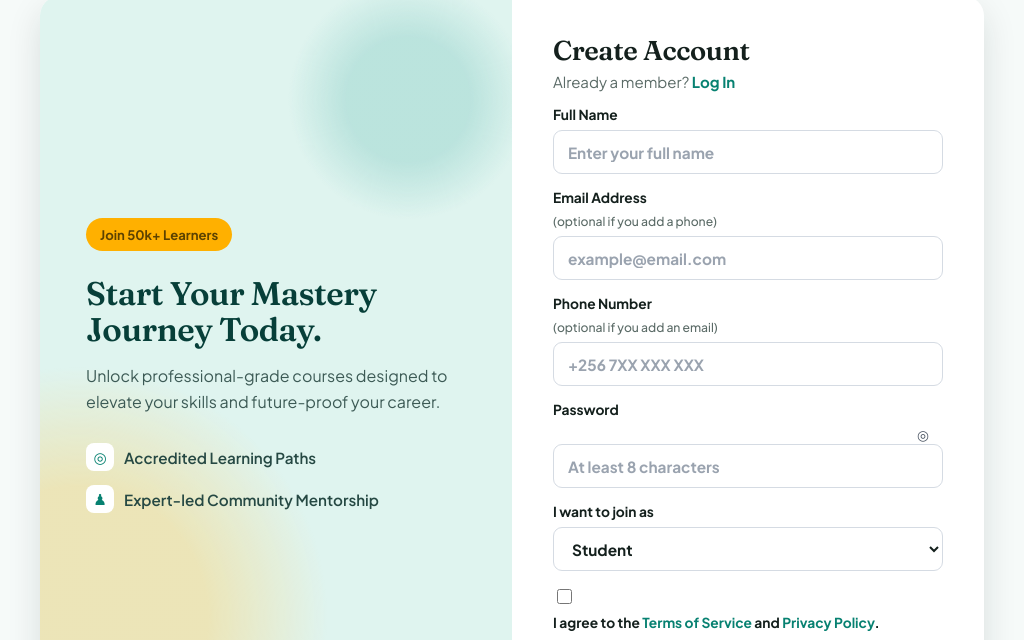
Test: Given a visitor on the register page › when the email is already taken, then the server error appears under the email field
The image size is (1024, 640).
Step 1. Type "Phil Test" into the field with placeholder "Enter your full name" → {"x": 748, "y": 152}, box [553,130,943,174]
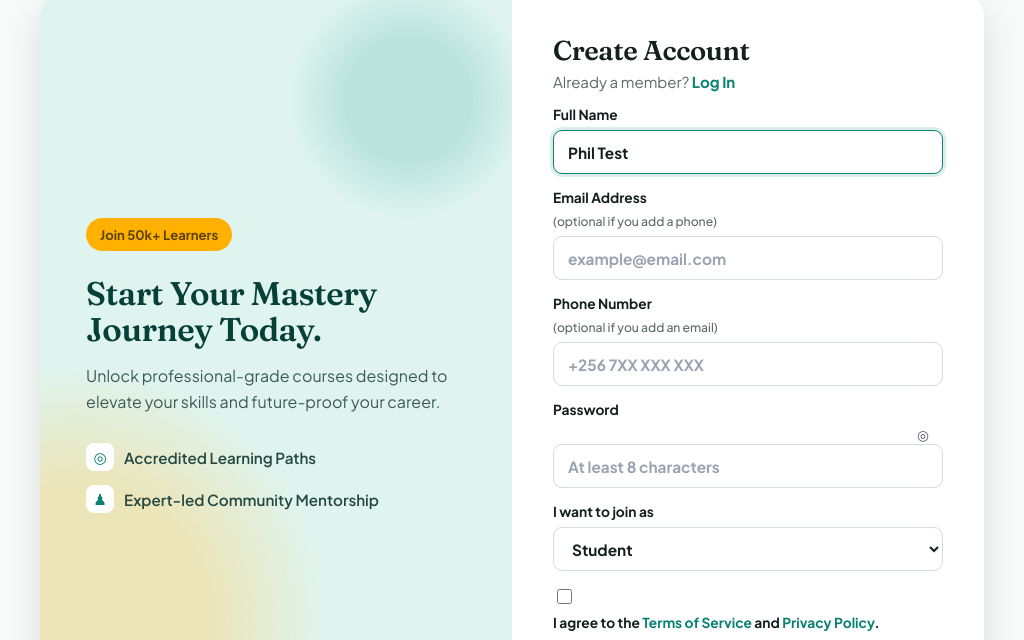
Step 2. Type "taken@t.com" into the field with placeholder "example@email.com" → {"x": 748, "y": 258}, box [553,236,943,280]
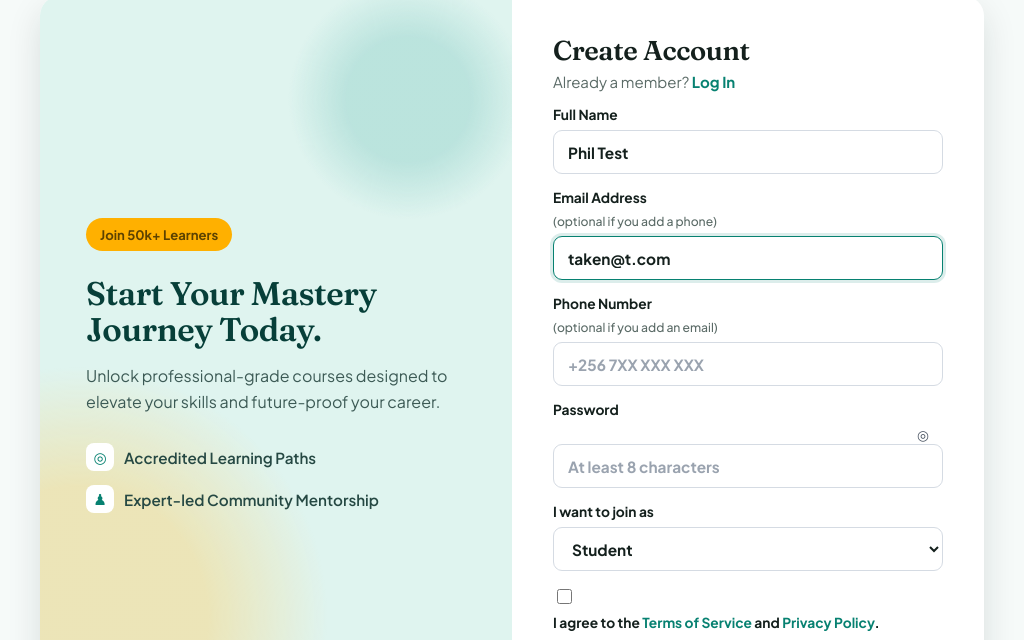
Step 3. Type "GoodPass123!" into the password field with placeholder "At least 8 characters" → {"x": 748, "y": 466}, box [553,444,943,488]
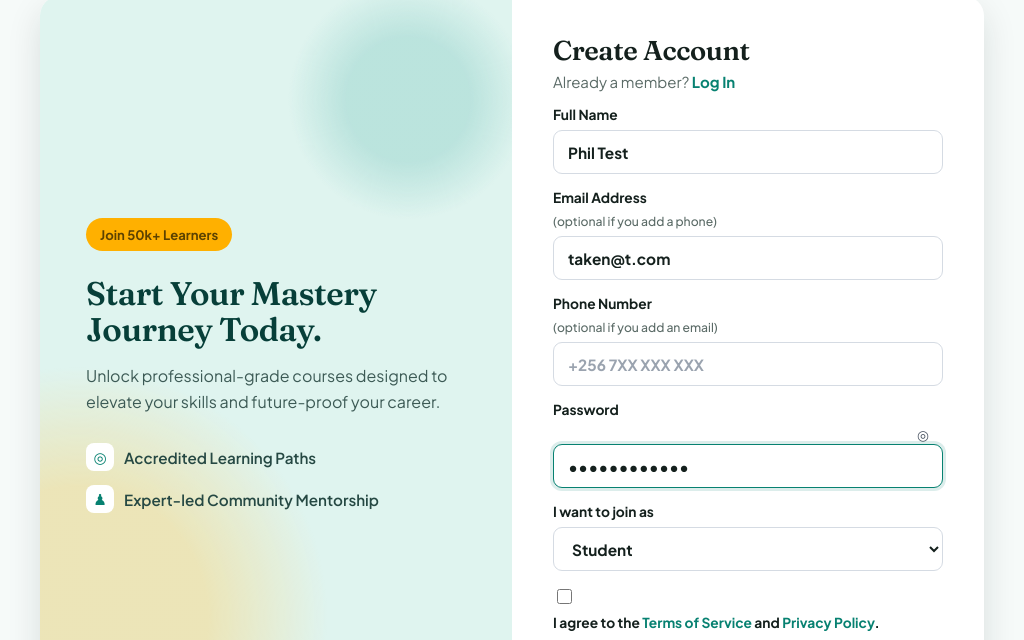
Step 4. Click the checkbox → {"x": 564, "y": 597}, box [557,589,572,604]
(page scrolled)
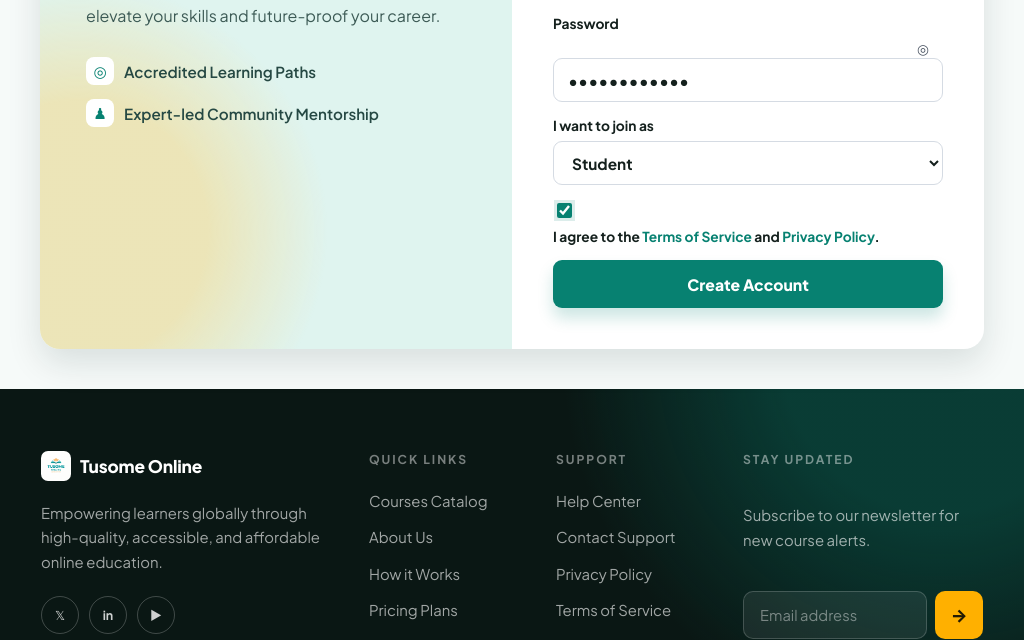
Step 5. Click the button "Create Account" → {"x": 748, "y": 284}, box [553,260,943,308]
(page scrolled)
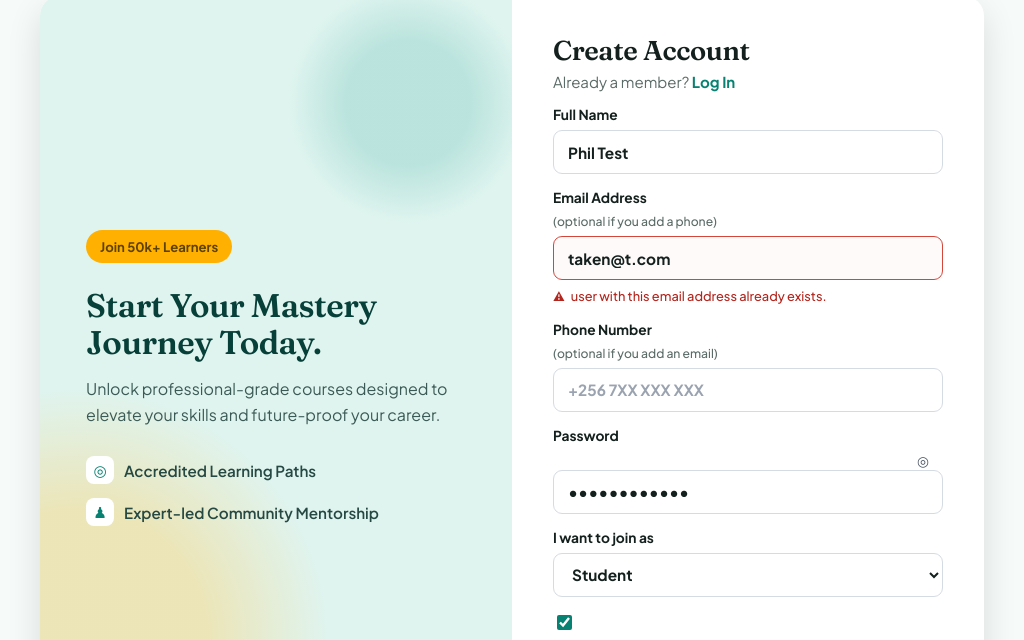
Result: the text "user with this email address already exists." is shown at [571,288,826,304]
